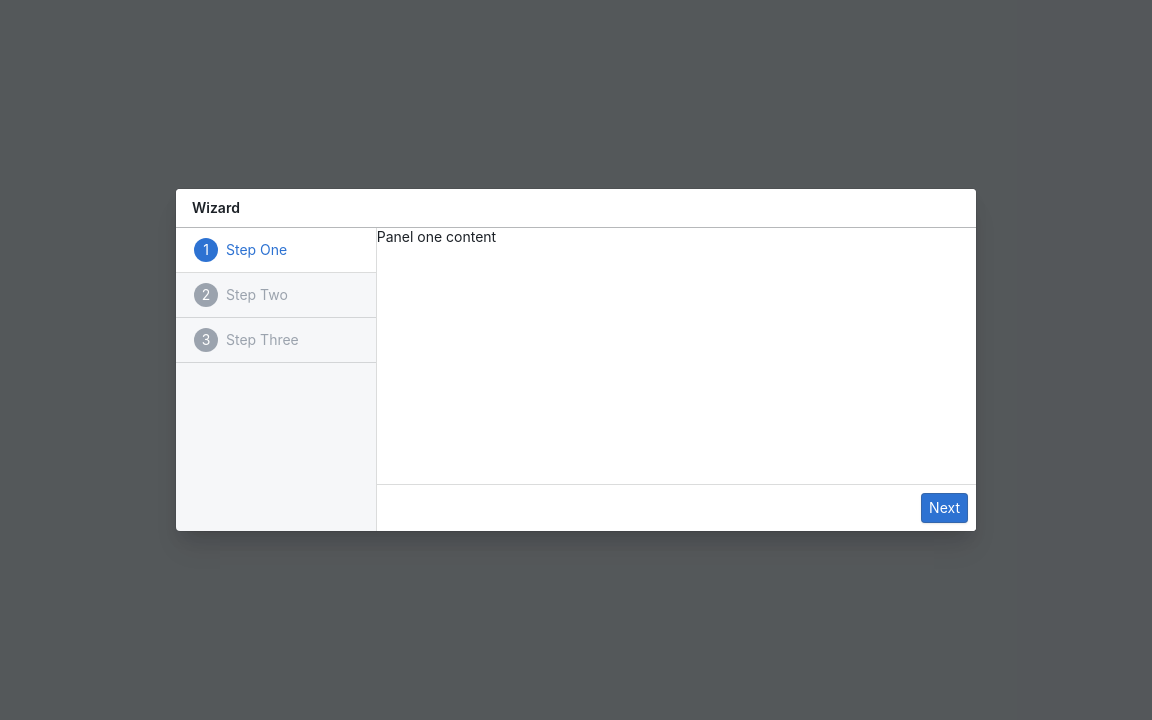
Test: MultistepDialog › Back returns to the previous step
Click the button "Next". click: (945, 508)
box: [921, 493, 968, 523]
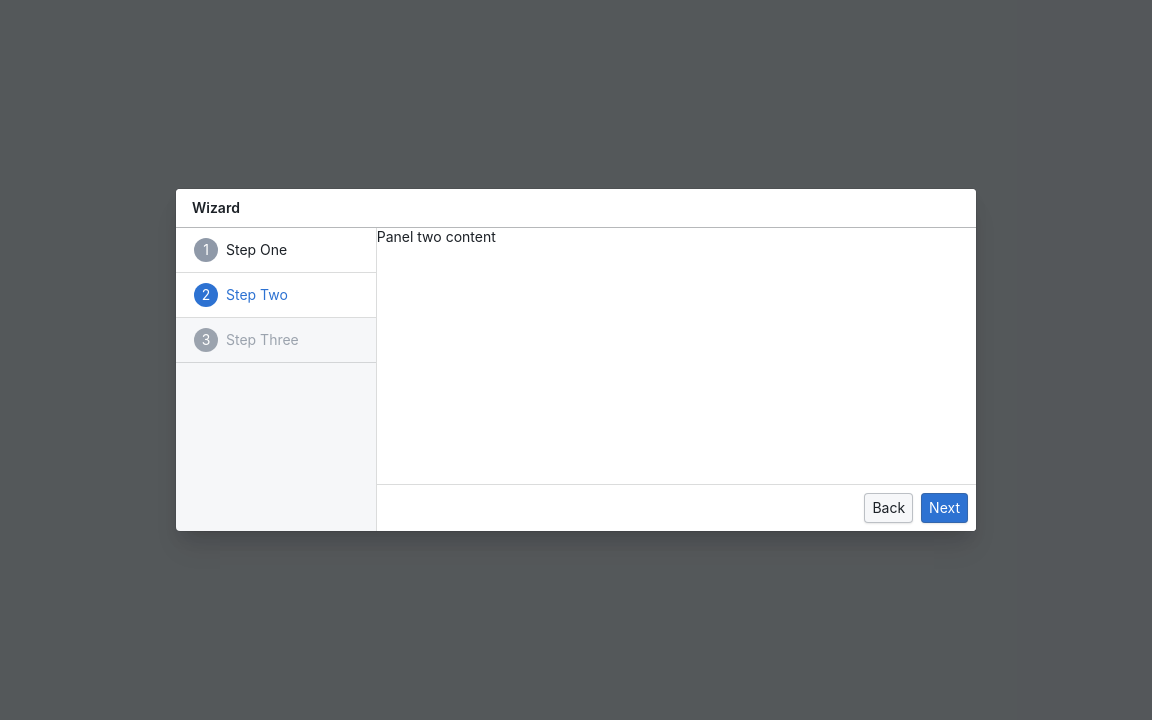
expect the text "Panel two content" is shown: met, box [377, 228, 496, 245]
Click the button "Back". click: (889, 508)
box: [864, 493, 913, 523]
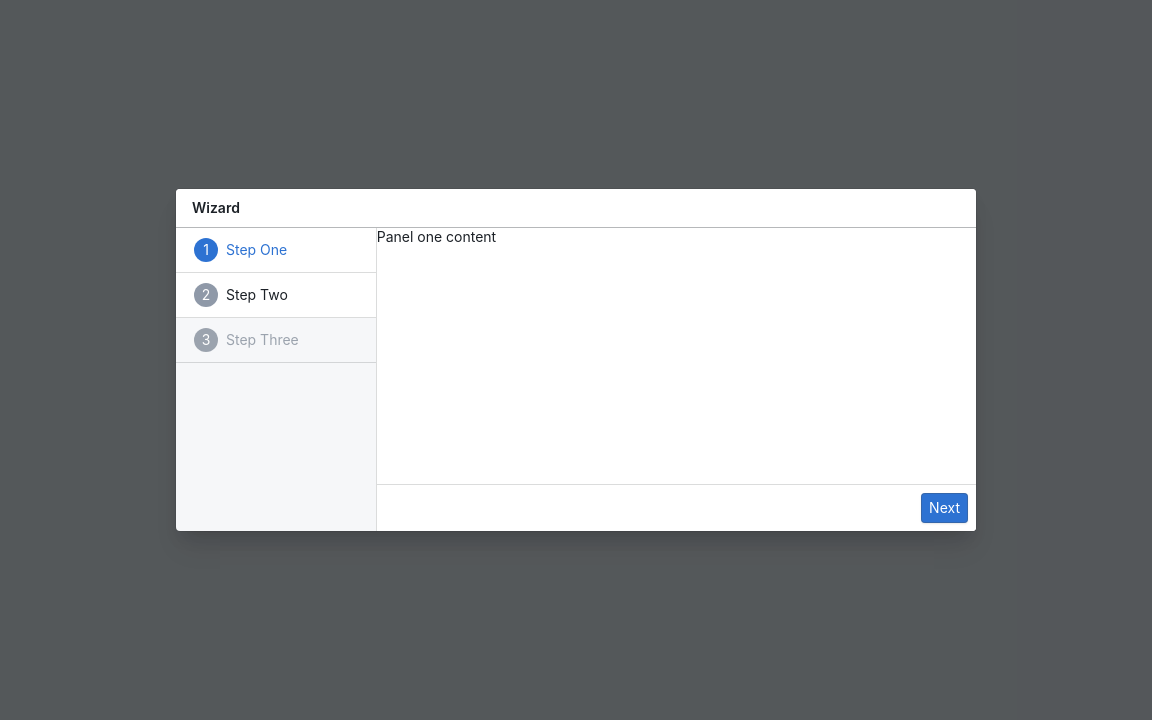
expect the text "Panel one content" is shown: met, box [377, 228, 496, 245]
expect the button "Back" is gone: met
